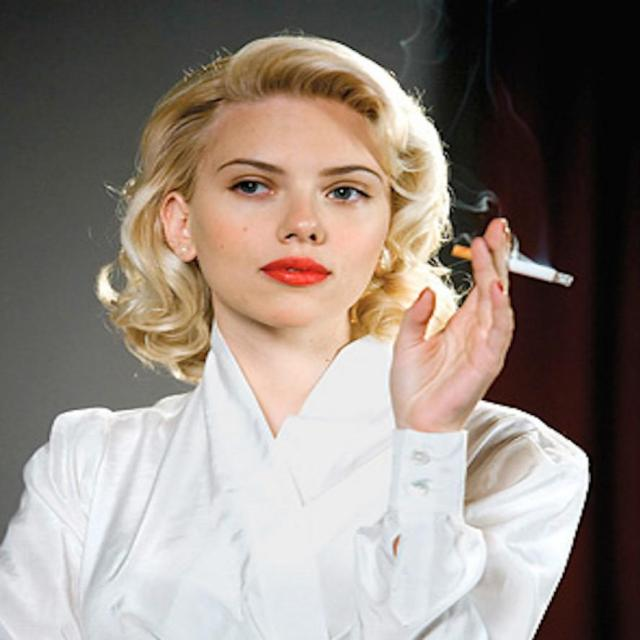cigarette: (445, 207, 581, 315)
